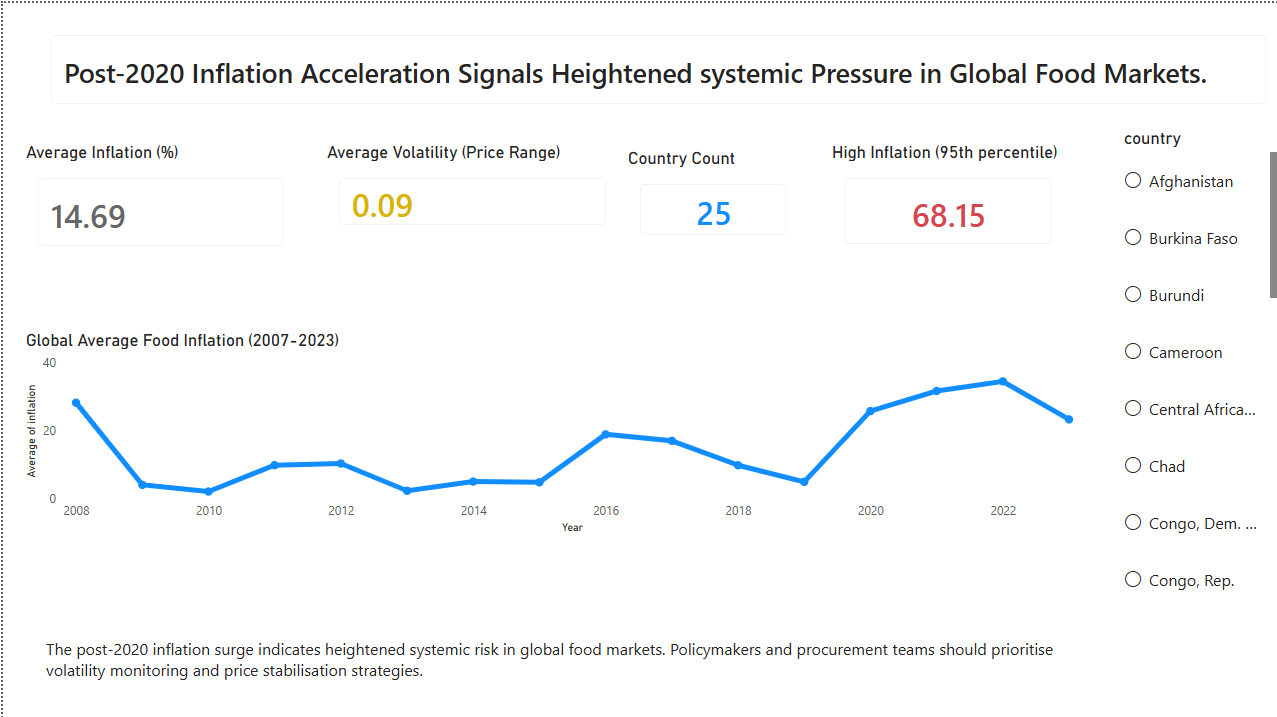

Layout of this report page (visuals, bound fields, positions):
{"tool":"powerbi","page":{"name":"Executive Overview","canvas":[1280,720],"ordinal":0},"visuals":[{"type":"cardVisual","title":"Average Inflation (%)","fields":{"Data":["food_prices_cleaned.Avg Inflation"]},"box":[17.5,139.1,280.1,120.6],"z":0},{"type":"cardVisual","title":"Average Volatility (Price Range)","fields":{"Data":["food_prices_cleaned.Avg Volatility"]},"box":[319,139.1,300.5,100.2],"z":1000},{"type":"cardVisual","title":"Country Count","fields":{"Data":["food_prices_cleaned.Country Count"]},"box":[619.6,144.9,180.9,104.1],"z":2000},{"type":"lineChart","title":"Global Average Food Inflation (2007-2023)","fields":{"Category":["food_prices_cleaned.date.Variation.Date Hierarchy.Year","food_prices_cleaned.date.Variation.Date Hierarchy.Quarter","food_prices_cleaned.date.Variation.Date Hierarchy.Month","food_prices_cleaned.date.Variation.Date Hierarchy.Day"],"Y":["Avg(food_prices_cleaned.inflation)"]},"box":[17.5,326.8,1067,208.1],"z":3000},{"type":"listSlicer","fields":{"Values":["food_prices_cleaned.country"]},"box":[1115.6,125.5,164.4,483.4],"z":4000},{"type":"cardVisual","title":"High Inflation (95th percentile)","fields":{"Data":["food_prices_cleaned.Max Inflation (95th Percentile)"]},"box":[823.8,139.1,242.2,118.7],"z":5000},{"type":"cardVisual","fields":{"Data":["food_prices_cleaned.Trend Insight"]},"box":[31.1,14.6,1248.9,103.1],"z":6000},{"type":"textbox","box":[37.9,630.3,1028.1,78.8],"z":7000}]}

Visuals, with their boxes in screenshot pixels (x1, y1, x2, y2), scaled from the page's 1280x720 canvas onto the 1277x717 screenshot:
"Average Inflation (%)" cardVisual: <region>17, 139, 297, 259</region>
"Average Volatility (Price Range)" cardVisual: <region>318, 139, 618, 238</region>
"Country Count" cardVisual: <region>618, 144, 799, 248</region>
"Global Average Food Inflation (2007-2023)" lineChart: <region>17, 325, 1082, 533</region>
listSlicer - food_prices_cleaned.country: <region>1113, 125, 1276, 606</region>
"High Inflation (95th percentile)" cardVisual: <region>822, 139, 1064, 257</region>
cardVisual - food_prices_cleaned.Trend Insight: <region>31, 15, 1276, 117</region>
textbox: <region>38, 628, 1064, 706</region>
